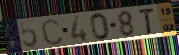0: (89, 12, 112, 42)
4: (69, 15, 91, 44)
5: (18, 19, 40, 50)
8: (117, 10, 136, 39)
C: (40, 18, 65, 47)
T: (137, 8, 156, 36)
